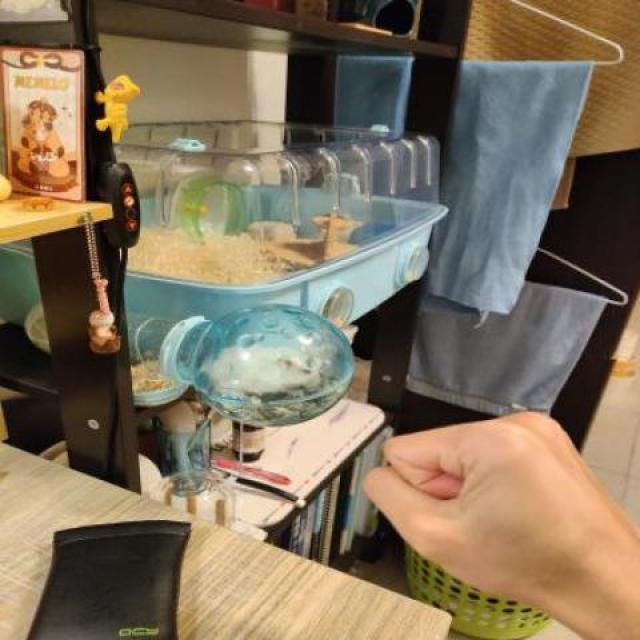Closed Hand: (316, 373, 640, 640)
